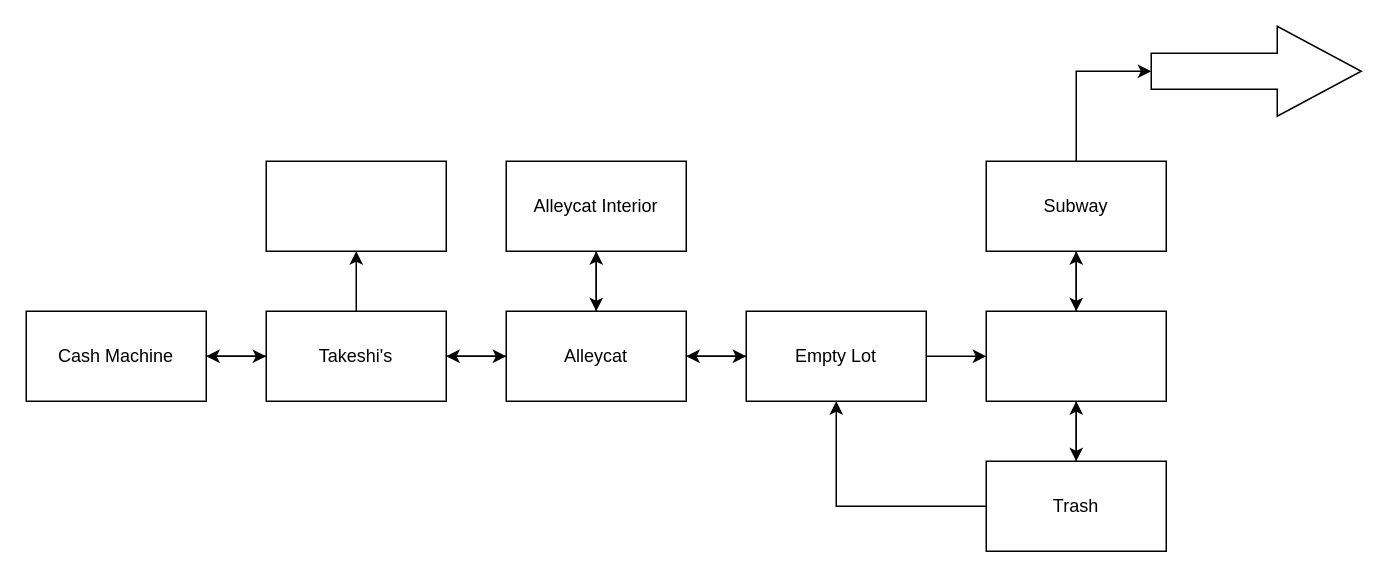
Image size: 1388x578. Some labels were removed from this diagram. Each missing label, with the centre of its shape:
Behind Takeshi's: pixel 355 205
Map: pixel 1255 70
Subway Entrance: pixel 1075 355
